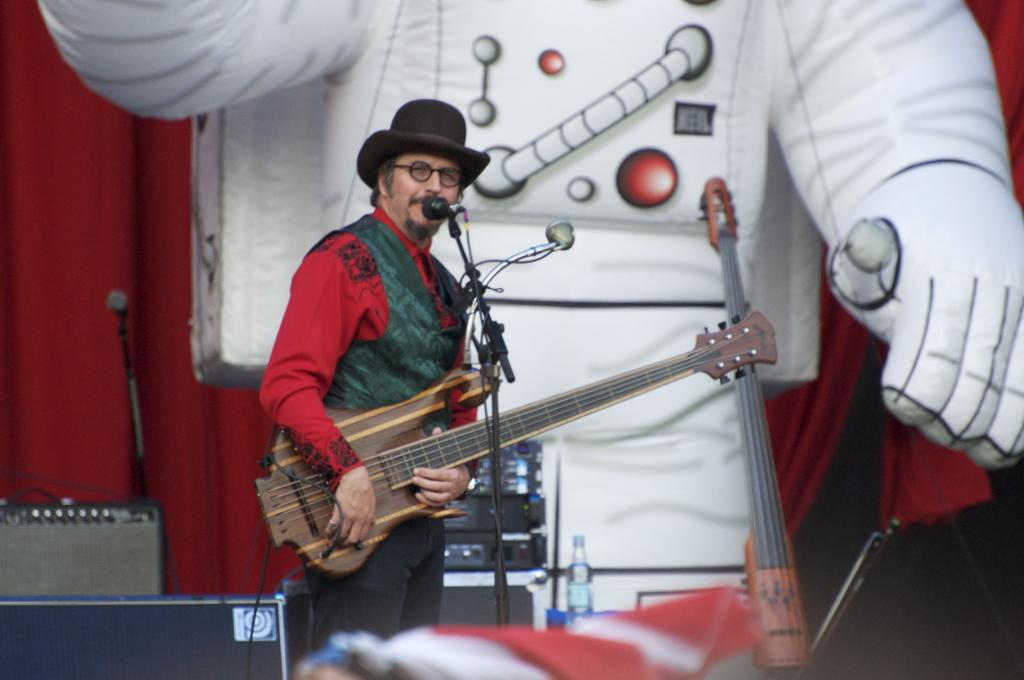Sem Máscara: (386, 155, 459, 225)
